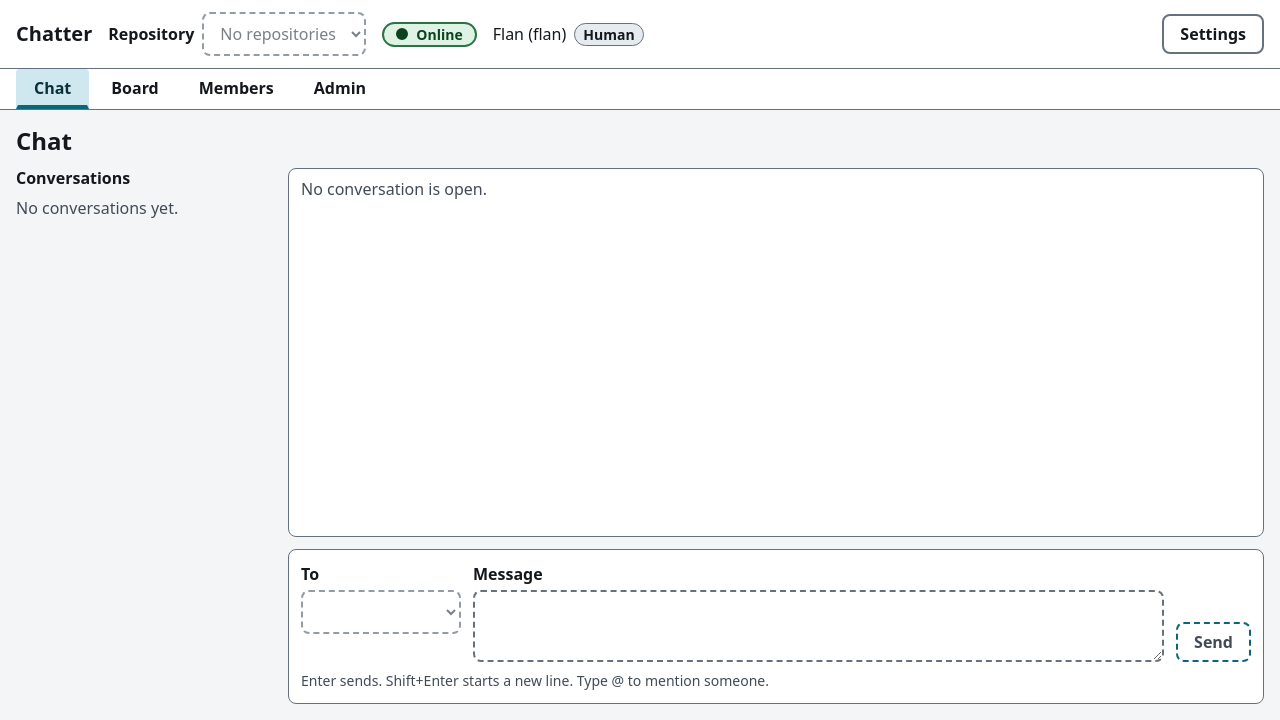
Test: the registry's real views › Admin: shows an admin the panel, with the Members table the Api's /v1/members answered
What coordinates should you click on to do the following:
click the button "Admin"
I would click on:
 (340, 89)
Its box is x1=296 y1=69 x2=384 y2=109.
(page scrolled)
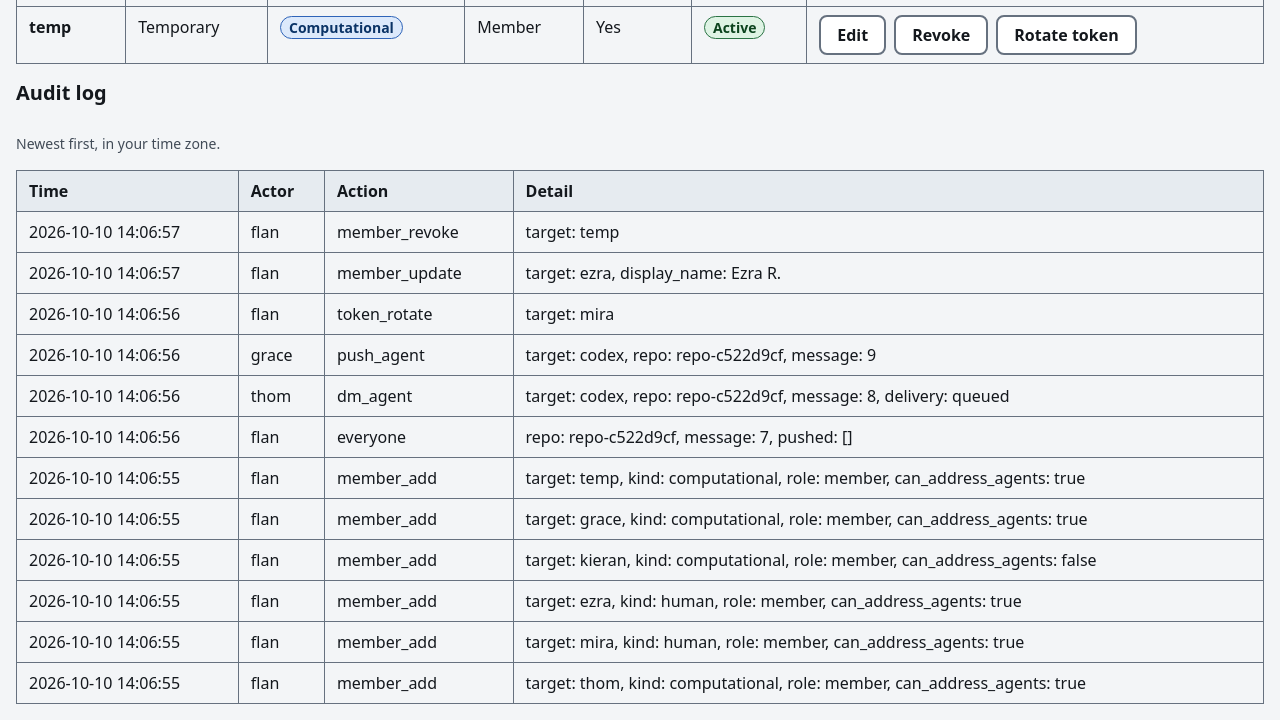
Result: the table named "Audit log" is shown
